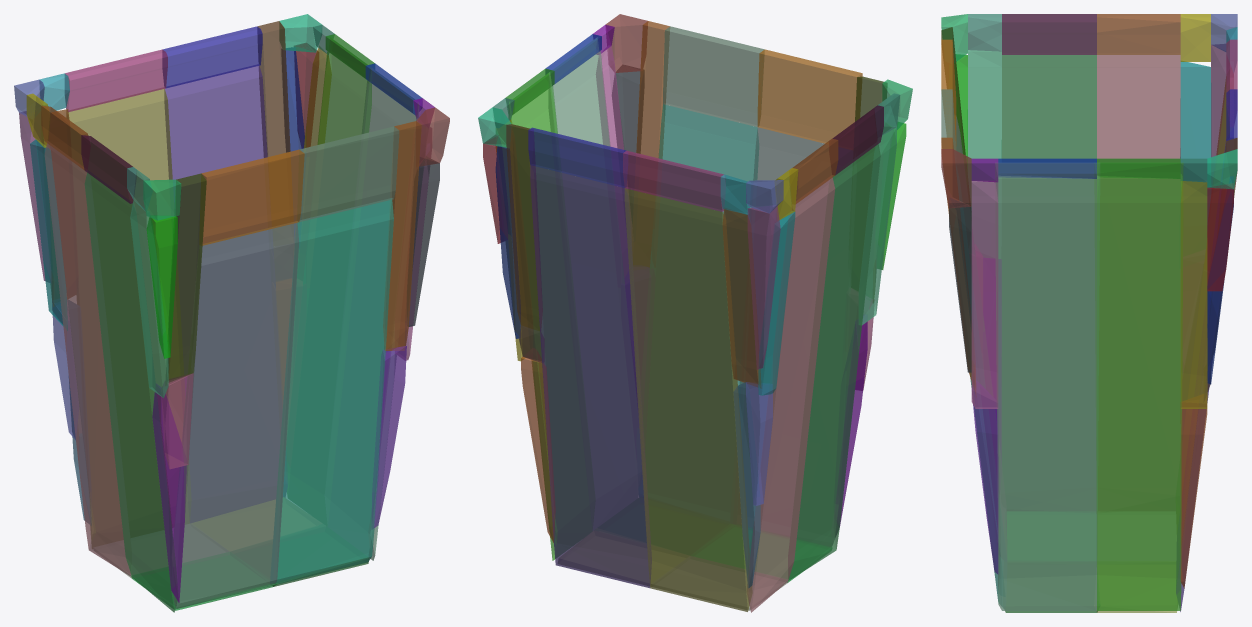
3 renders of one model, left to right at view 1: azimuth 30°, elevation 25°; view 2: azimuth 150°, elevation 25°; view 3: azimuth 270°, elevation 25°, orthographic. The views are drawn at different scales.
Visible parts, largest first — view 1: Shape_IndexedFaceSet.012, Shape_IndexedFaceSet.010, Shape_IndexedFaceSet.016, Shape_IndexedFaceSet.006, Shape_IndexedFaceSet.008, Shape_IndexedFaceSet.018, Shape_IndexedFaceSet.004, Shape_IndexedFaceSet.014, Shape_IndexedFaceSet.011, Shape_IndexedFaceSet.017, Shape_IndexedFaceSet.020, Shape_IndexedFaceSet.023 (+35 smaller); view 2: Shape_IndexedFaceSet.006, Shape_IndexedFaceSet.012, Shape_IndexedFaceSet.016, Shape_IndexedFaceSet.010, Shape_IndexedFaceSet.018, Shape_IndexedFaceSet.008, Shape_IndexedFaceSet.004, Shape_IndexedFaceSet.014, Shape_IndexedFaceSet.011, Shape_IndexedFaceSet.017, Shape_IndexedFaceSet.023, Shape_IndexedFaceSet.021 (+35 smaller); view 3: Shape_IndexedFaceSet.018, Shape_IndexedFaceSet.008, Shape_IndexedFaceSet.014, Shape_IndexedFaceSet.004, Shape_IndexedFaceSet.041, Shape_IndexedFaceSet.043, Shape_IndexedFaceSet.032, Shape_IndexedFaceSet.026, Shape_IndexedFaceSet.001, Shape_IndexedFaceSet.003, Shape_IndexedFaceSet.009, Shape_IndexedFaceSet (+32 smaller).
Boxes of the visible parts, x1=… form: Shape_IndexedFaceSet.012: x1=164, y1=64, x2=287, y2=522; Shape_IndexedFaceSet.010: x1=172, y1=221, x2=299, y2=608; Shape_IndexedFaceSet.016: x1=270, y1=198, x2=393, y2=583; Shape_IndexedFaceSet.006: x1=67, y1=88, x2=190, y2=548; Shape_IndexedFaceSet.008: x1=84, y1=171, x2=176, y2=612; Shape_IndexedFaceSet.018: x1=328, y1=68, x2=418, y2=560; Shape_IndexedFaceSet.004: x1=44, y1=141, x2=131, y2=575; Shape_IndexedFaceSet.014: x1=287, y1=37, x2=371, y2=525; Shape_IndexedFaceSet.011: x1=200, y1=149, x2=304, y2=245; Shape_IndexedFaceSet.017: x1=297, y1=126, x2=399, y2=221; Shape_IndexedFaceSet.020: x1=165, y1=173, x2=206, y2=385; Shape_IndexedFaceSet.023: x1=383, y1=121, x2=421, y2=350; Shape_IndexedFaceSet.006: x1=624, y1=188, x2=752, y2=611; Shape_IndexedFaceSet.012: x1=530, y1=165, x2=651, y2=588; Shape_IndexedFaceSet.016: x1=639, y1=104, x2=758, y2=521; Shape_IndexedFaceSet.010: x1=737, y1=127, x2=852, y2=546; Shape_IndexedFaceSet.018: x1=548, y1=37, x2=637, y2=529; Shape_IndexedFaceSet.008: x1=788, y1=143, x2=880, y2=580; Shape_IndexedFaceSet.004: x1=747, y1=176, x2=835, y2=612; Shape_IndexedFaceSet.014: x1=509, y1=73, x2=592, y2=560; Shape_IndexedFaceSet.011: x1=757, y1=49, x2=862, y2=149; Shape_IndexedFaceSet.017: x1=663, y1=26, x2=764, y2=126; Shape_IndexedFaceSet.023: x1=633, y1=21, x2=669, y2=266; Shape_IndexedFaceSet.021: x1=506, y1=124, x2=542, y2=331; Shape_IndexedFaceSet.018: x1=995, y1=163, x2=1099, y2=610; Shape_IndexedFaceSet.008: x1=1002, y1=55, x2=1096, y2=510; Shape_IndexedFaceSet.014: x1=1094, y1=163, x2=1183, y2=610; Shape_IndexedFaceSet.004: x1=1097, y1=55, x2=1180, y2=510; Shape_IndexedFaceSet.041: x1=1180, y1=181, x2=1207, y2=408; Shape_IndexedFaceSet.043: x1=971, y1=181, x2=998, y2=408; Shape_IndexedFaceSet.032: x1=968, y1=50, x2=1001, y2=258; Shape_IndexedFaceSet.026: x1=1180, y1=61, x2=1211, y2=256; Shape_IndexedFaceSet.001: x1=1007, y1=512, x2=1095, y2=560; Shape_IndexedFaceSet.003: x1=1005, y1=565, x2=1097, y2=612; Shape_IndexedFaceSet.009: x1=1002, y1=14, x2=1096, y2=54; Shape_IndexedFaceSet: x1=1098, y1=512, x2=1176, y2=560.
Bounding box in the file's own units: 0.5117 × 0.7593 × 0.4291.
